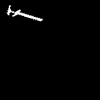double_crochet: (7, 6, 41, 20)
